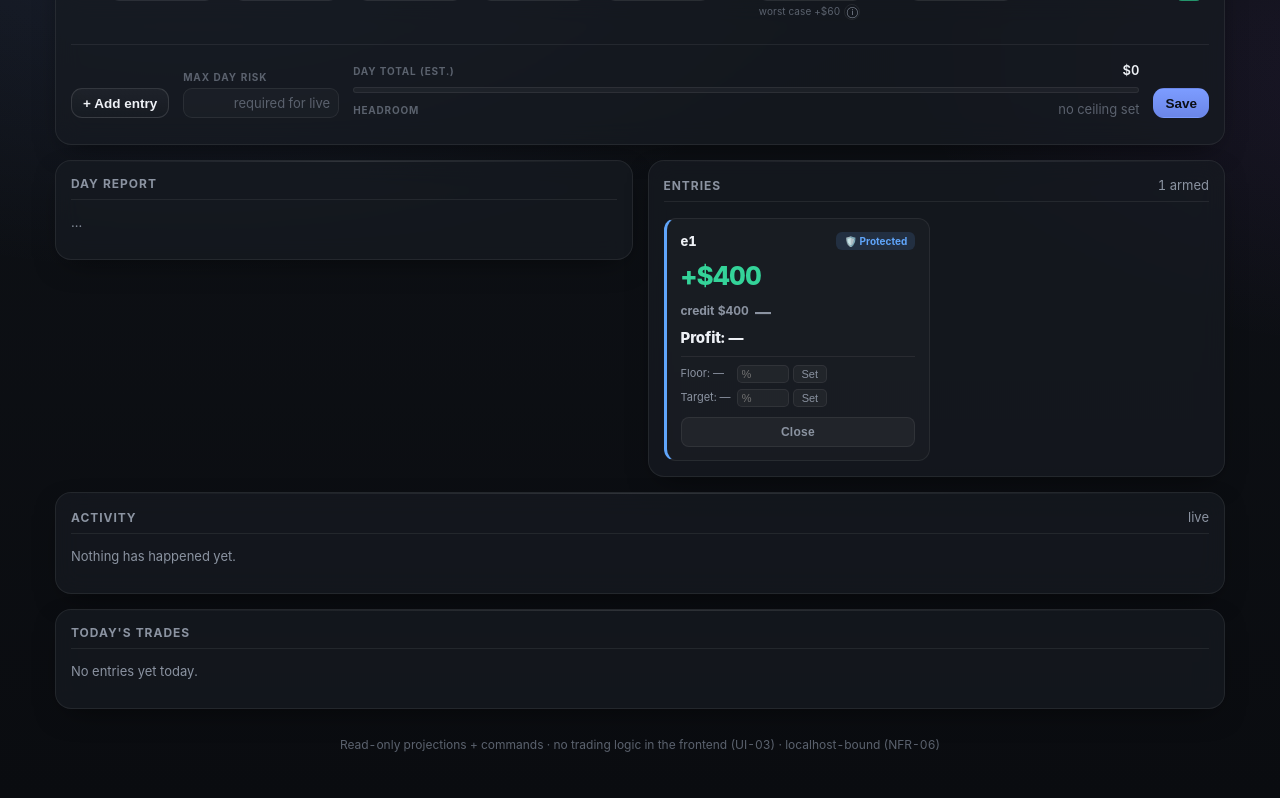
App — Close / Flatten (UI-16 / TC-FLT-01) › close_partial with no remaining sides toasts the journal-down edge, not an empty STILL OPEN (CLS-06)
This screenshot has width=1280, height=798.
(page scrolled)
Click the button "Close".
click(798, 432)  # box [680, 417, 915, 447]
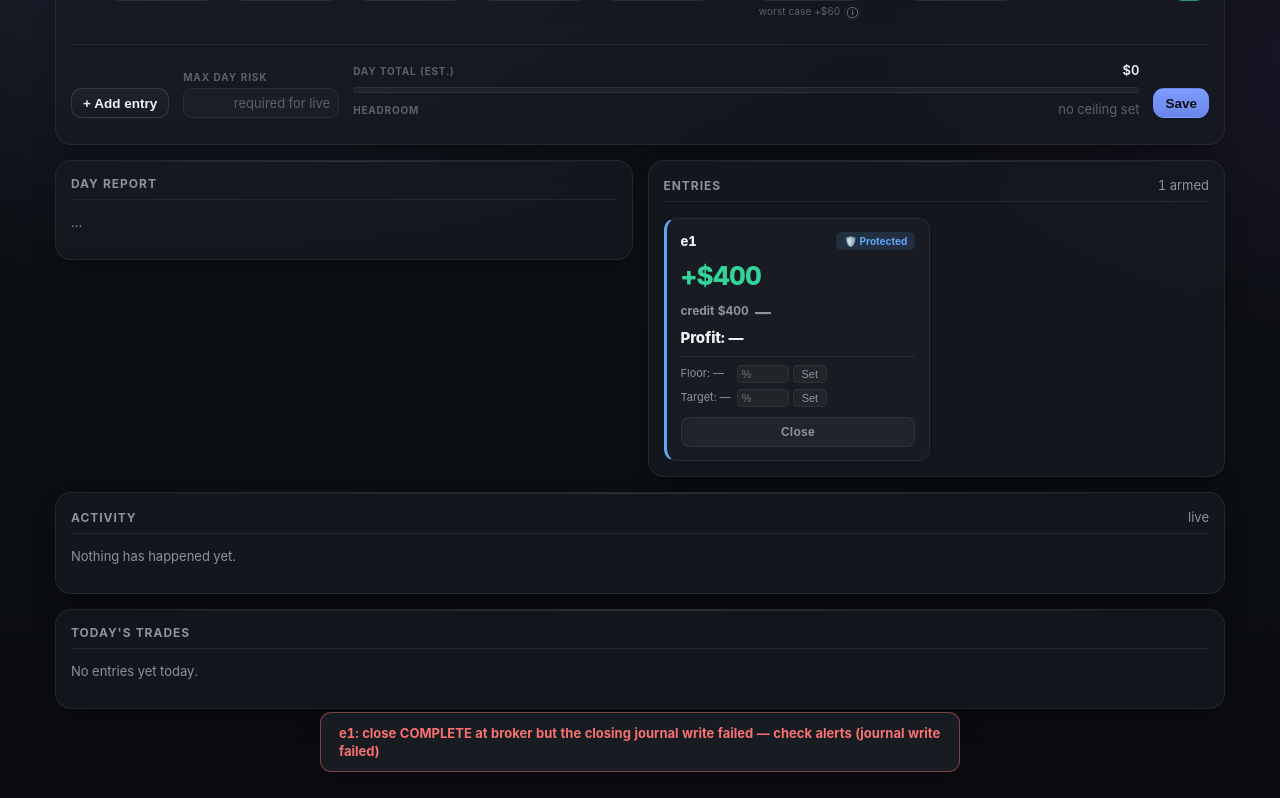
Result: the text "close COMPLETE at broker" shows "closing journal write failed" at [339, 725, 940, 759]
Result: the text "close COMPLETE at broker" shows "check alerts" at [339, 725, 940, 759]
